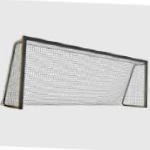goals: (1, 34, 150, 114)
